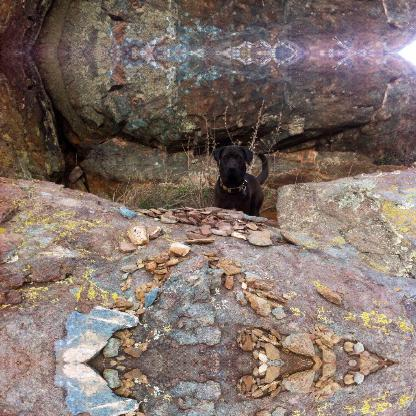Dog: (212, 144, 268, 214)
